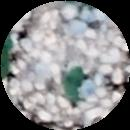Basil: (60, 64, 85, 100)
